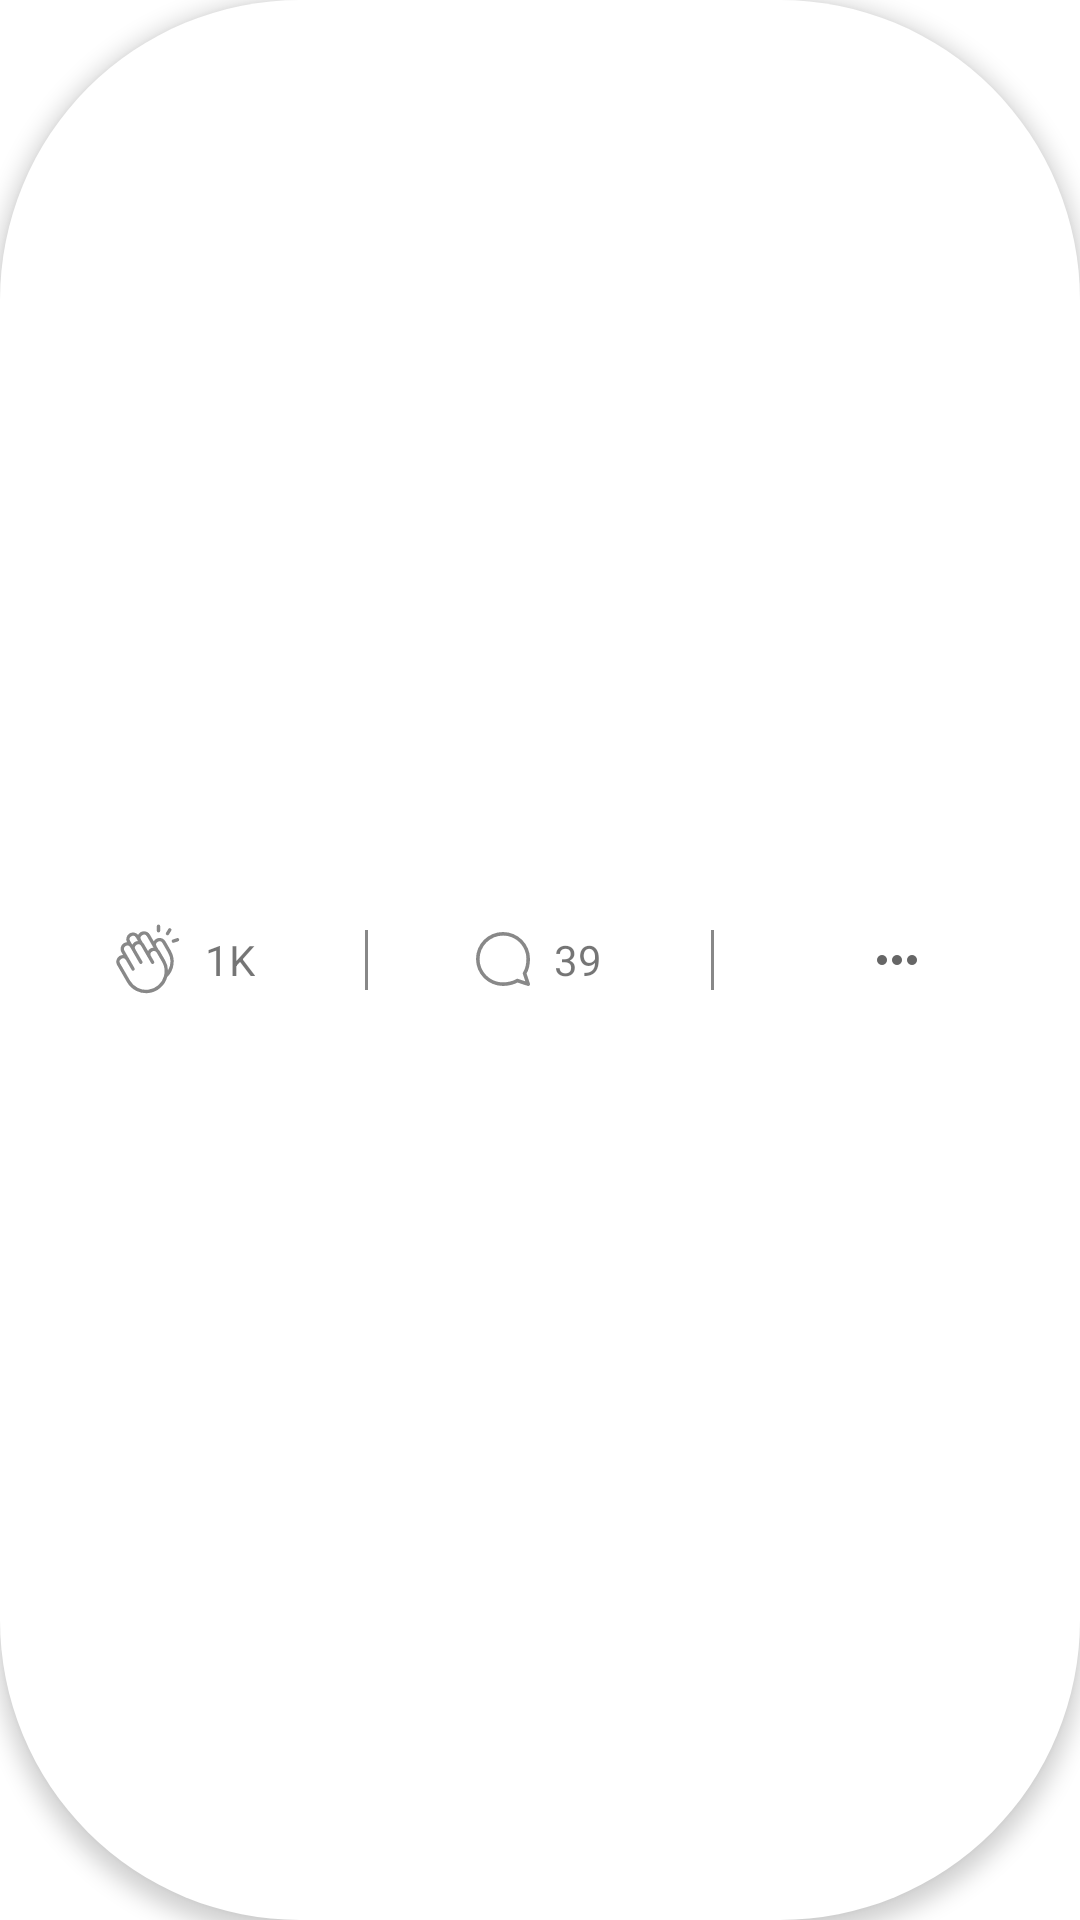

Icons on this 1080px×1920px Android screen, each with the point to tap as (x,y):
comment: (503,959)
hand clap: (147,959)
options: (897,960)
